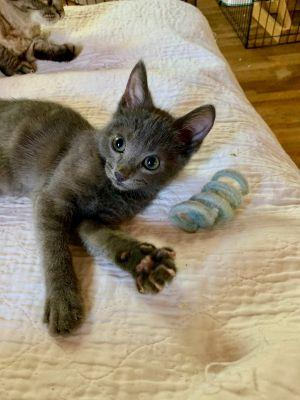rblue: (87, 64, 216, 199)
